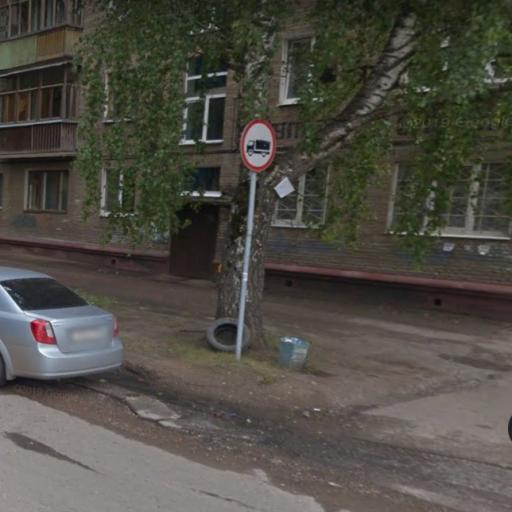traffic_sign: (236, 116, 280, 178)
